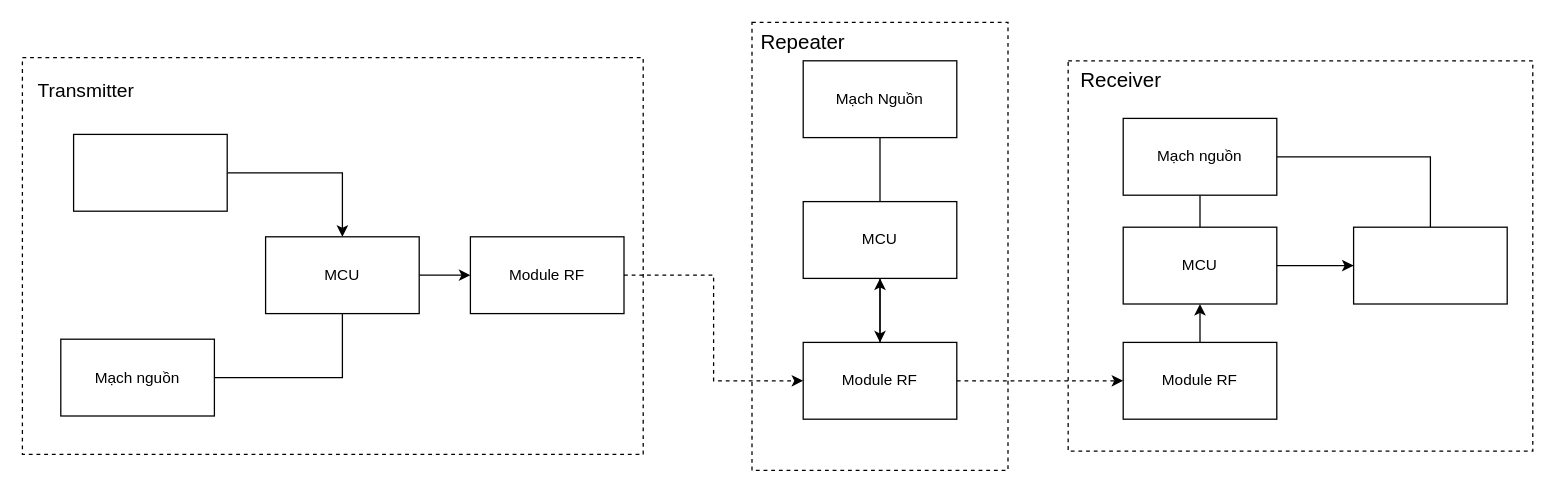
This 1555x493 diagram has some shape labels left out. Here are the shapes that lost their labels. From the top down, the centre of each, then its label:
At pixel 149 172: "Bộ điều khiển".
At pixel 1429 265: "Động cơ".
